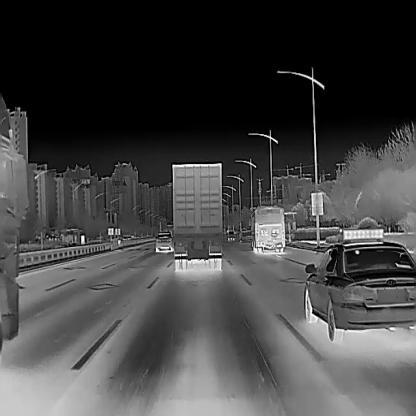car: (303, 227, 415, 341), (0, 94, 26, 351), (172, 163, 222, 268), (251, 205, 285, 250), (155, 230, 172, 250), (227, 230, 235, 240)
